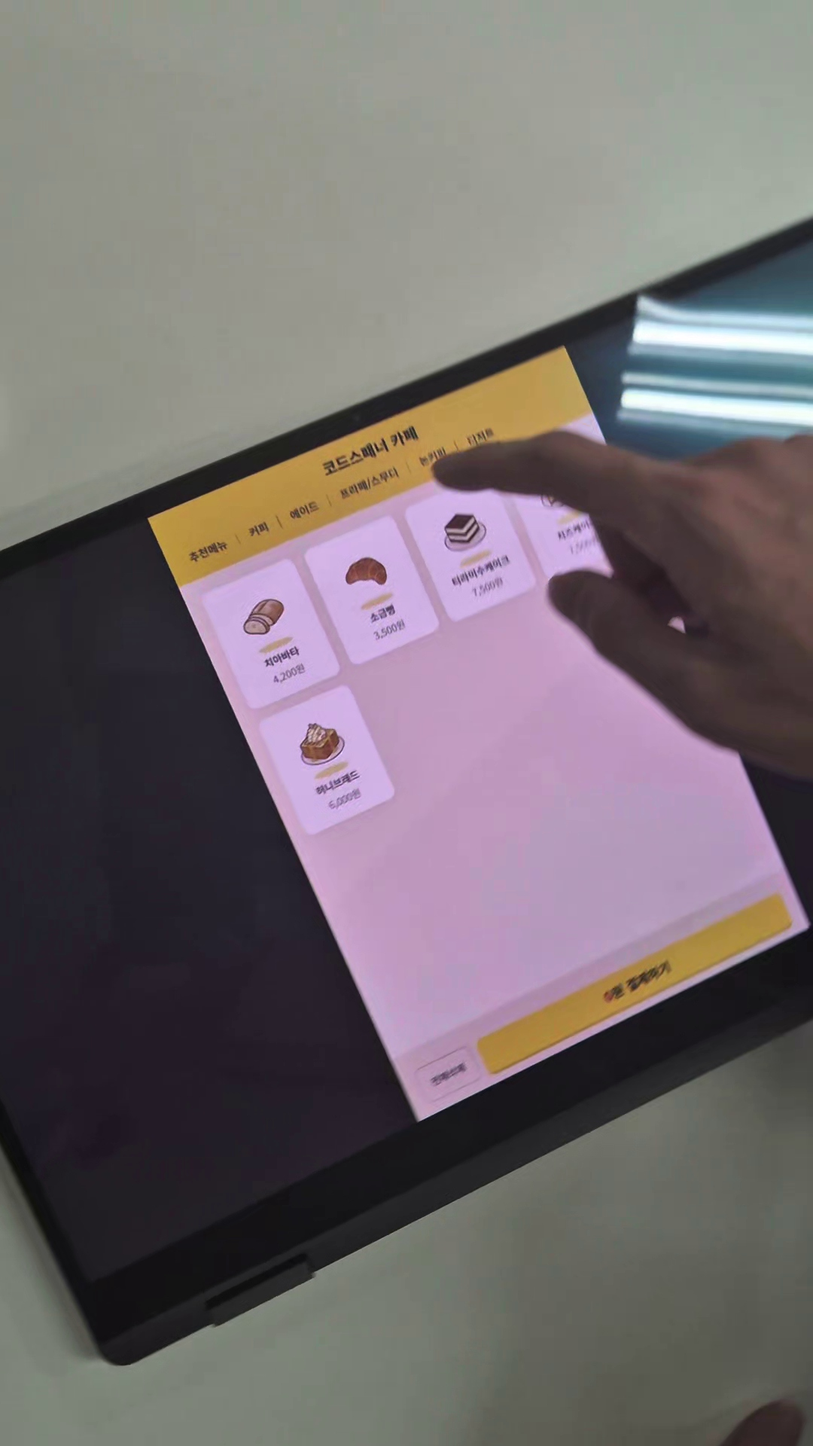action_button: (472, 889, 797, 1077), (414, 1044, 484, 1104)
category_tab: (338, 465, 402, 501), (187, 537, 232, 565), (464, 425, 497, 449), (287, 499, 321, 522), (418, 445, 450, 469), (246, 520, 272, 539)
menu_back: (199, 555, 343, 713), (301, 513, 443, 670), (257, 682, 398, 838), (402, 473, 539, 626)
menu_name: (449, 552, 513, 589), (313, 767, 363, 798), (262, 644, 303, 670), (368, 602, 398, 626)
menu_price: (326, 786, 364, 814), (271, 661, 309, 687), (470, 574, 507, 599), (372, 617, 408, 642)
